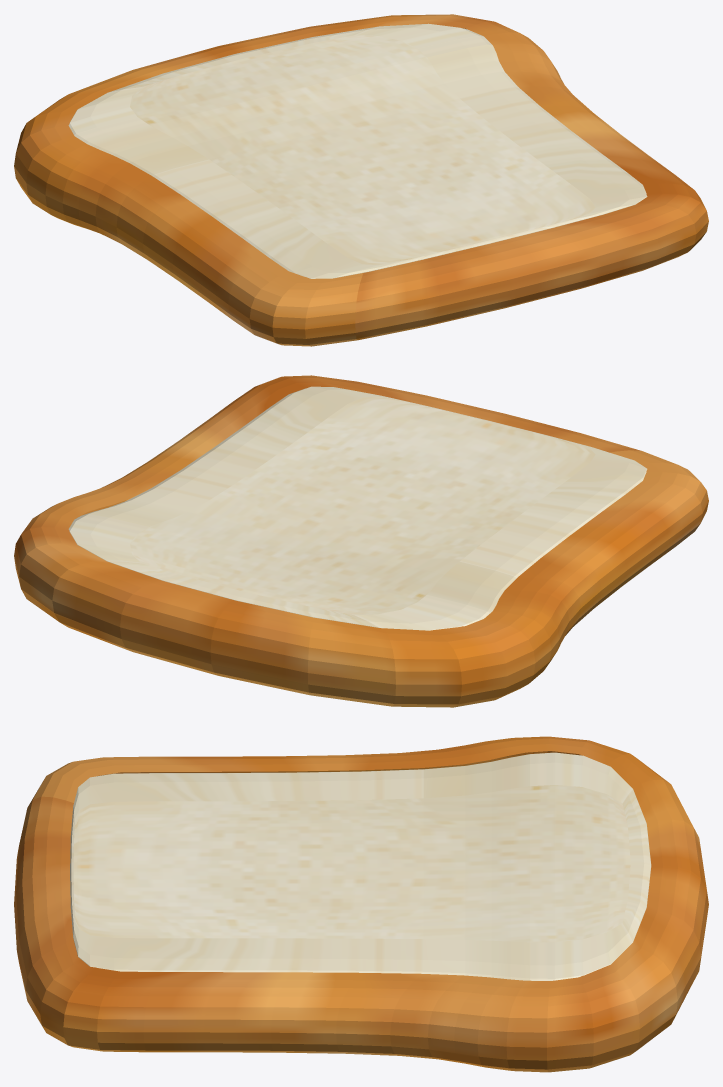
File: bread.glb
3 views of the same model, one above another, from view 1: azimuth 30°, elevation 25°; view 2: azimuth 150°, elevation 25°; view 3: azimuth 270°, elevation 25° (orthographic). The views are drawn at different scales.
Visible parts, largest first — view 1: Cube, Cube.001; view 2: Cube, Cube.001; view 3: Cube, Cube.001.
Boxes of the visible parts, <box> form: Cube: <box>68,23,647,278</box>; Cube.001: <box>14,14,708,346</box>; Cube: <box>68,386,647,630</box>; Cube.001: <box>14,375,708,707</box>; Cube: <box>70,752,651,980</box>; Cube.001: <box>14,736,708,1072</box>.
Size of the model in its own units: 2.38 by 0.3199 by 2.45.
Materials: 1 (1 with a texture image).
